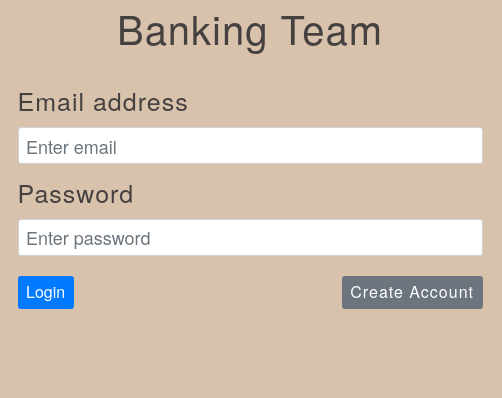
Scenario: Should positive and negative messages for login › (TP_0002) Should test to see profile loading message
Step 1. Type "test@nonexisted.com" into the field named "email" → (251, 146), box [18,127,483,164]
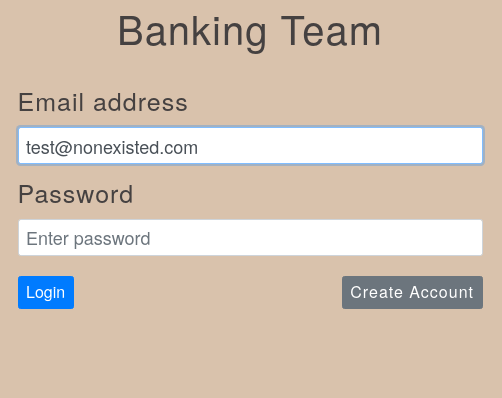
Step 2. Type "123456cpr" into the password field named "password" → (251, 238), box [18,219,483,256]
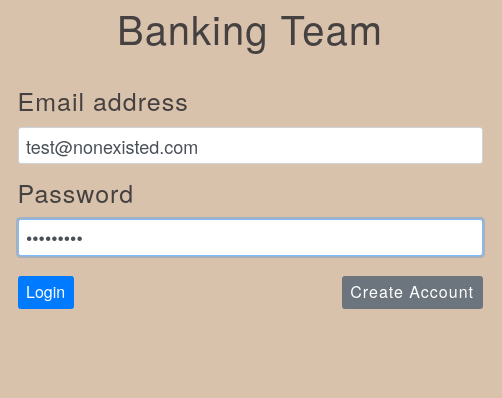
Step 3. Click the button "Login" → (46, 293), box [18,276,74,310]
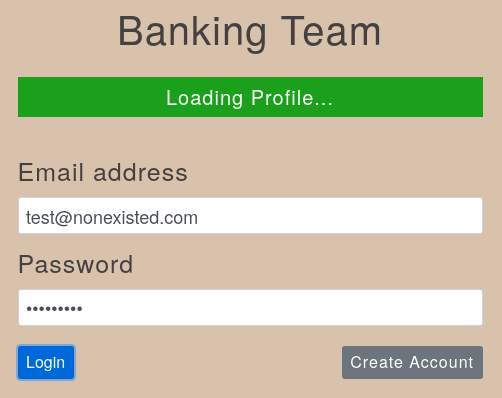
Result: the text with class "successMsg" reads "Loading Profile..." at [166,82,334,111]
